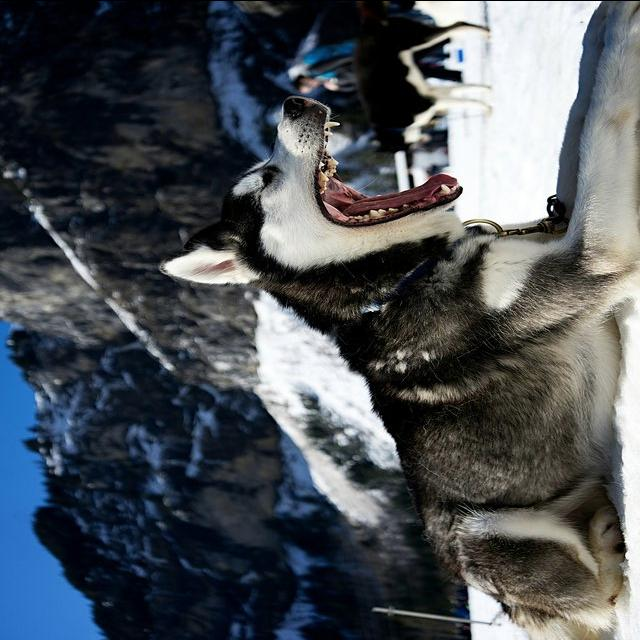husky: (158, 2, 638, 640)
